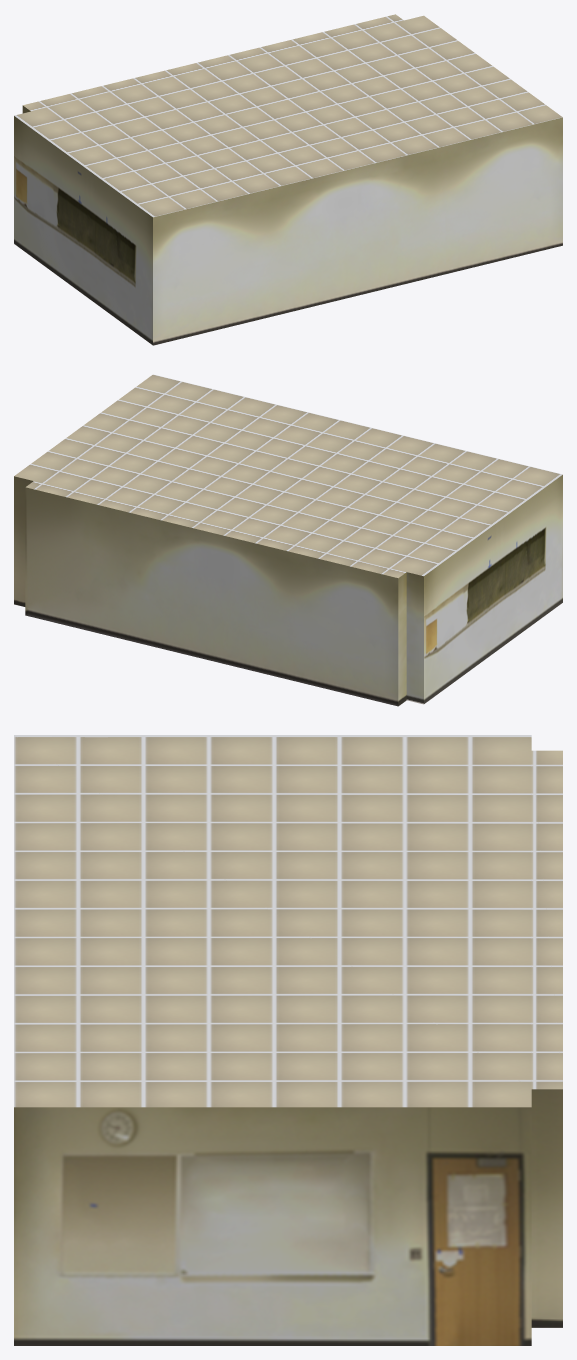
File: labNoZProbs_2.dae
3 views of the same model, one above another, from view 1: azimuth 30°, elevation 25°; view 2: azimuth 150°, elevation 25°; view 3: azimuth 270°, elevation 25° (orthographic). The views are drawn at different scales.
Visible parts, largest first — view 1: Cube; view 2: Cube; view 3: Cube.
Part boxes in pixels (box(x1,y1,x2,y2)): Cube: box(14, 14, 562, 345); Cube: box(14, 374, 562, 706); Cube: box(14, 735, 562, 1345).
Size of the model in its own units: 9 by 5.61 by 2.69.
1 material, 1 textured.
